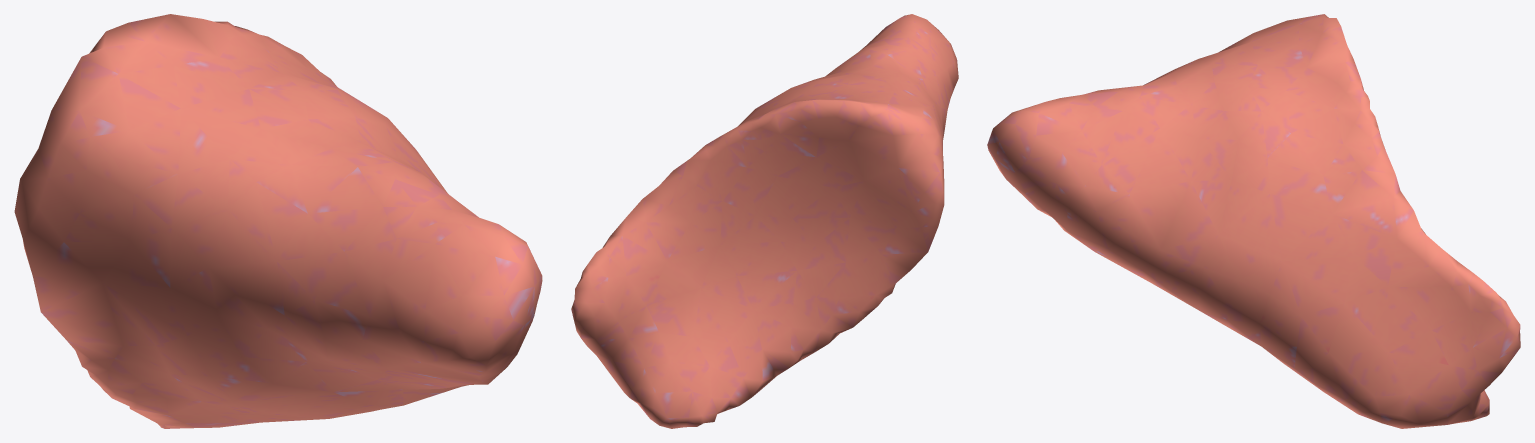
The model's file is adrenal_gland_OBJ.obj.
The picture shows the model from 3 angles, left to right: view 1: azimuth 30°, elevation 25°; view 2: azimuth 150°, elevation 25°; view 3: azimuth 270°, elevation 25°; orthographic projection. The views are drawn at different scales.
Bounding box in the file's own units: 2.76 × 2.77 × 4.05.
